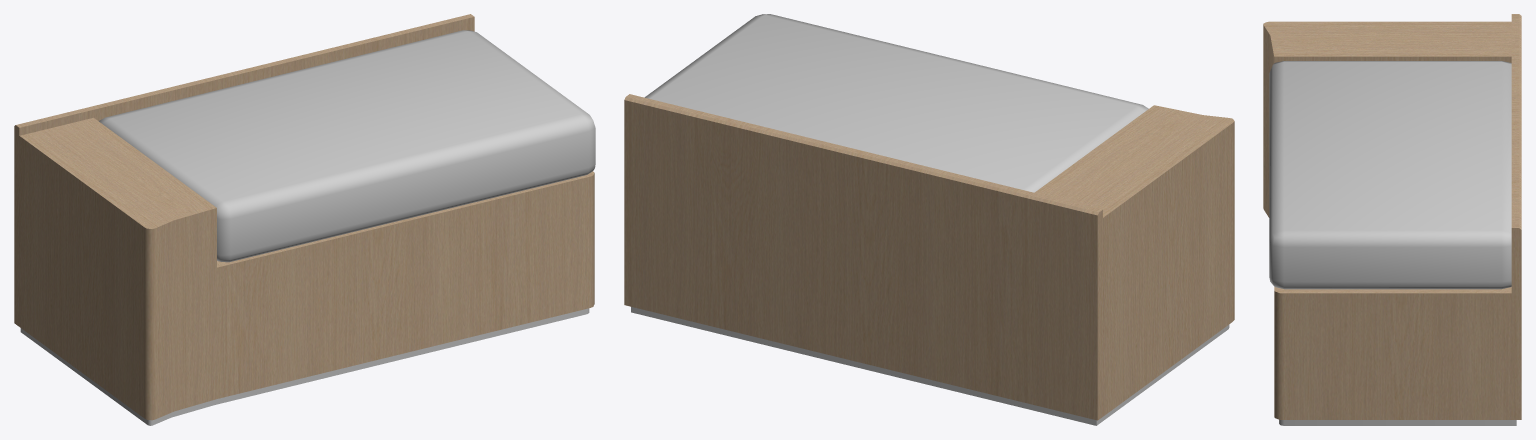
The model's file is D_Bench_303_b.fbx.
3 views of the same model, side by side, from view 1: azimuth 30°, elevation 25°; view 2: azimuth 150°, elevation 25°; view 3: azimuth 270°, elevation 25° (orthographic). The views are drawn at different scales.
Visible parts, largest first — view 1: D_Bench_303_b; view 2: D_Bench_303_b; view 3: D_Bench_303_b.
Boxes of the visible parts, x1=… form: D_Bench_303_b: x1=14, y1=14, x2=595, y2=425; D_Bench_303_b: x1=624, y1=14, x2=1234, y2=425; D_Bench_303_b: x1=1263, y1=14, x2=1521, y2=425.
Size of the model in its own units: 1.2 by 0.52 by 0.6099.
